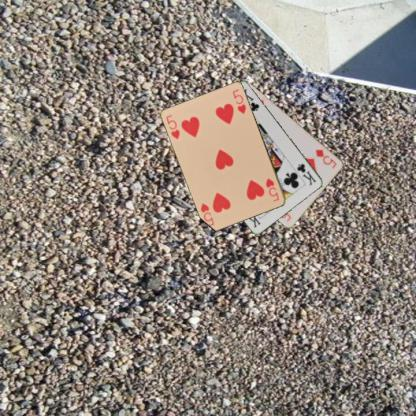5d: (313, 147, 338, 170)
5h: (164, 113, 182, 140), (264, 176, 280, 202)
Kc: (295, 161, 318, 187)
